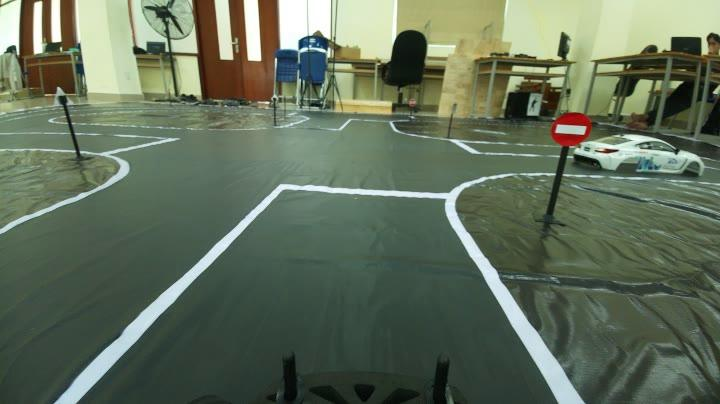no_entry: (552, 106, 608, 146)
